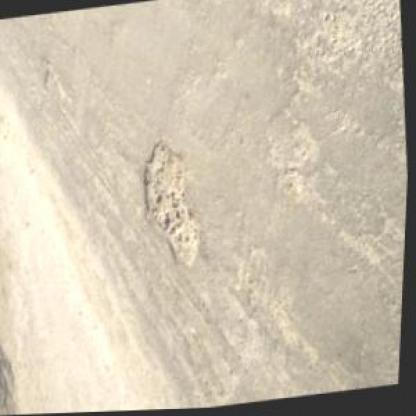pothole: (136, 134, 207, 274), (37, 54, 68, 97)
